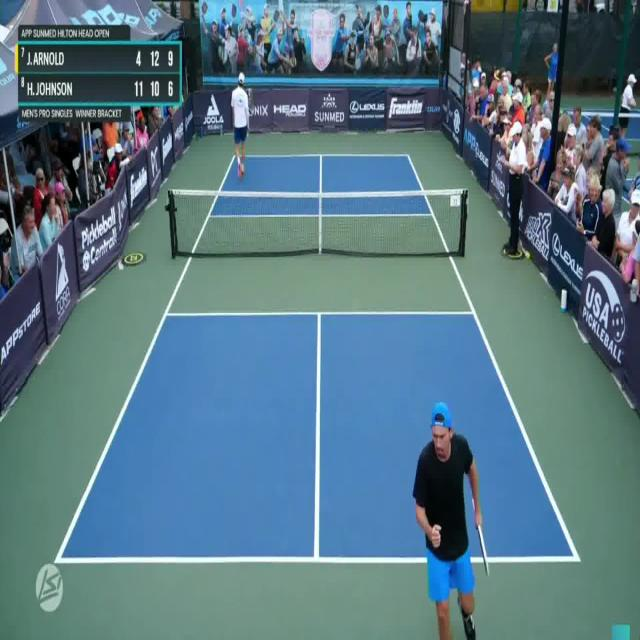Court: (49, 150, 578, 560)
